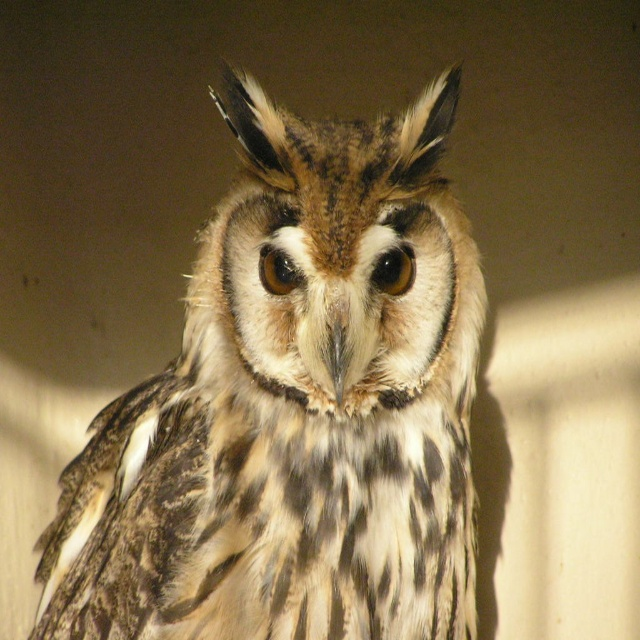Owl: (25, 51, 490, 639)
